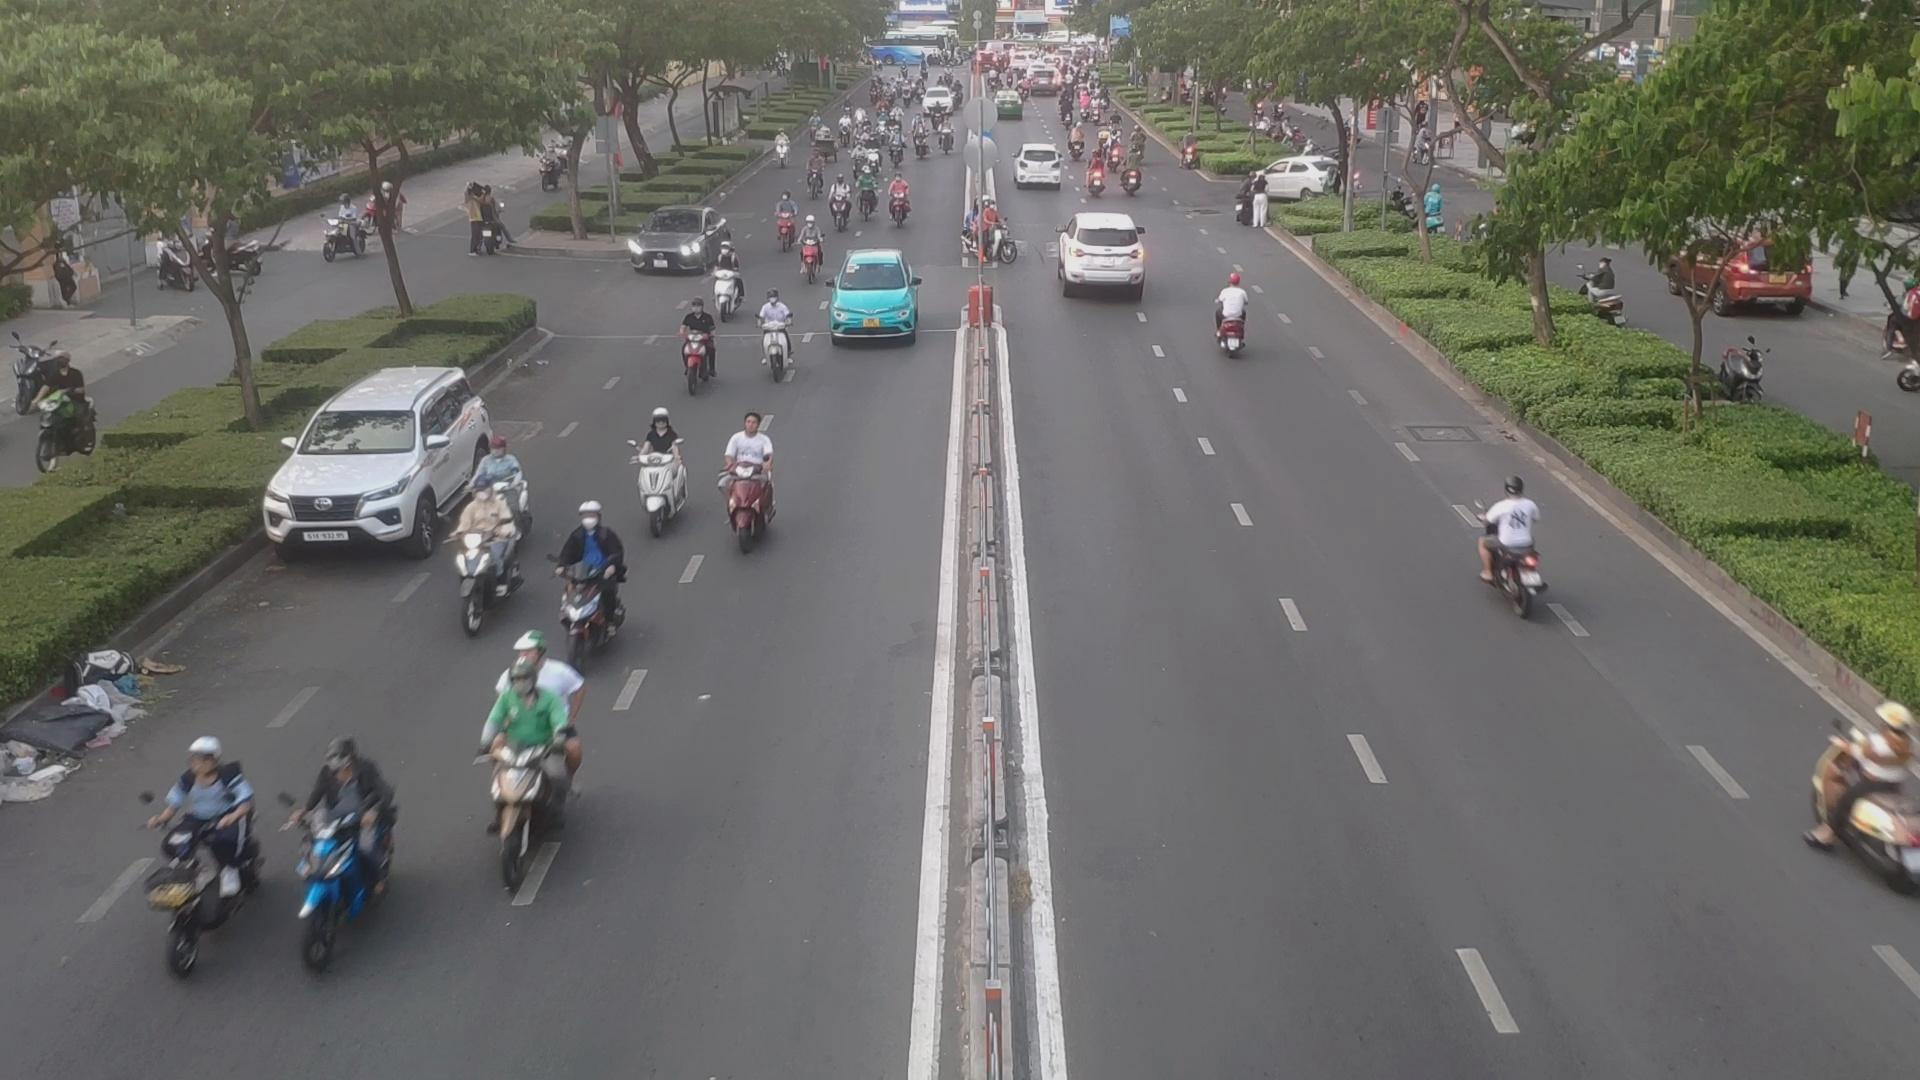car: (266, 368, 512, 564), (822, 251, 920, 342), (1063, 215, 1153, 298), (624, 206, 728, 276), (1251, 157, 1338, 199), (1015, 142, 1069, 189)
motorbike: (468, 649, 587, 885), (164, 728, 270, 977), (1795, 688, 1911, 887), (285, 740, 386, 963), (1470, 468, 1557, 621), (448, 473, 514, 624), (574, 473, 629, 641), (721, 398, 775, 546), (629, 382, 675, 535), (1203, 272, 1251, 371), (959, 200, 1015, 269), (676, 301, 720, 385), (796, 214, 833, 284), (760, 289, 786, 378), (712, 239, 742, 310), (889, 167, 914, 225), (828, 173, 852, 229), (857, 164, 877, 225), (1083, 152, 1104, 203), (775, 193, 794, 243), (887, 125, 909, 169), (807, 154, 827, 200), (771, 131, 790, 169), (1121, 146, 1135, 193), (851, 145, 868, 182), (1106, 132, 1124, 169), (869, 135, 884, 170)
